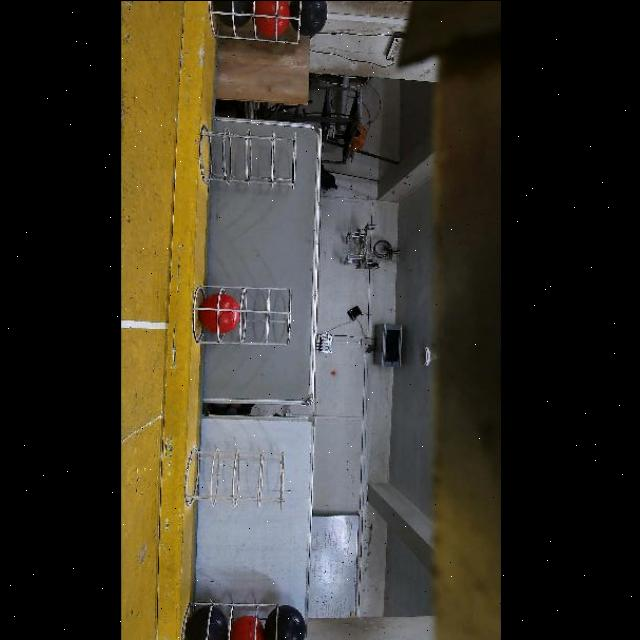P: (186, 605, 230, 640), (265, 605, 307, 640), (290, 0, 328, 35), (215, 0, 254, 26)
R: (200, 294, 240, 334), (256, 0, 291, 36), (231, 615, 268, 640)
S: (192, 282, 294, 346), (183, 450, 289, 506), (196, 130, 298, 182), (187, 598, 286, 640), (216, 0, 306, 44)
